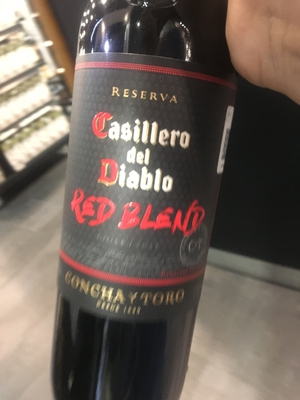casillero del diablo red blend: (43, 23, 240, 400)
